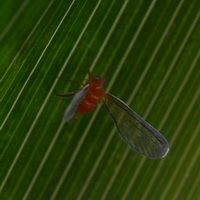insect: (63, 75, 168, 157)
